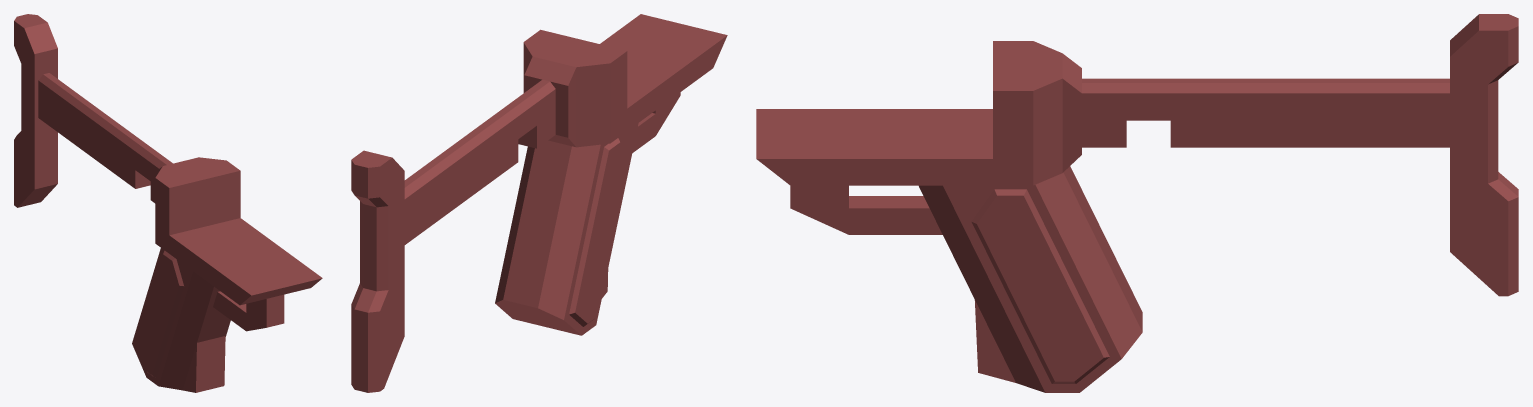
Rendered from WM0_Handle_LVL2.FBX.
3 renders of one model, left to right at view 1: azimuth 30°, elevation 25°; view 2: azimuth 150°, elevation 25°; view 3: azimuth 270°, elevation 25°, orthographic. The views are drawn at different scales.
Visible parts, largest first — view 1: WM0_Handle_LVL2; view 2: WM0_Handle_LVL2; view 3: WM0_Handle_LVL2.
Boxes of the visible parts, x1,y1,x2,y2 form: WM0_Handle_LVL2: (14, 14, 322, 392); WM0_Handle_LVL2: (351, 14, 727, 392); WM0_Handle_LVL2: (756, 14, 1518, 392).
Size of the model in its own units: 6.06 by 19.81 by 39.01.
